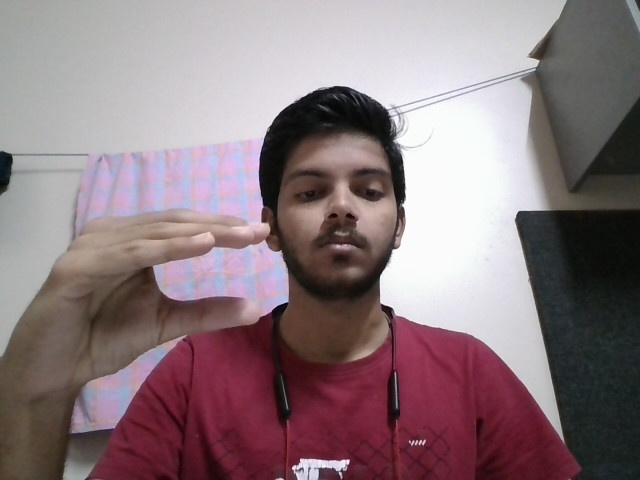Yes: (9, 214, 301, 352)
